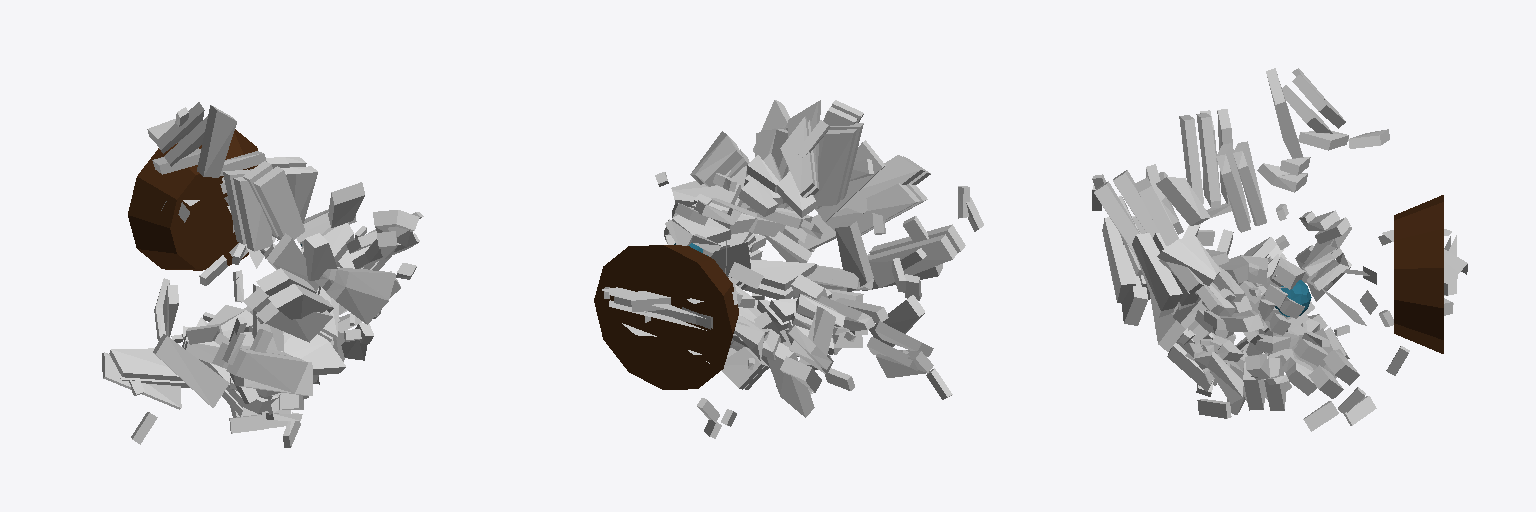
3 renders of one model, left to right at view 1: azimuth 30°, elevation 25°; view 2: azimuth 150°, elevation 25°; view 3: azimuth 270°, elevation 25°, orthographic.
Visible parts, largest first — view 1: Cone.001_Cone.001_cover, Cone_Cone_cover, Cylinder_Cylinder_Material.001; view 2: Cone.001_Cone.001_cover, Cone_Cone_cover, Cylinder_Cylinder_Material.001, Plane_Plane_Material.003; view 3: Cone_Cone_cover, Cone.001_Cone.001_cover, Cylinder_Cylinder_Material.001, Plane_Plane_Material.003.
Boxes of the visible parts, box(x1,y1,x2,y2) form: Cone.001_Cone.001_cover: box(102, 102, 423, 444); Cone_Cone_cover: box(186, 182, 419, 447); Cylinder_Cylinder_Material.001: box(128, 129, 257, 270); Cone.001_Cone.001_cover: box(655, 100, 983, 420); Cone_Cone_cover: box(664, 100, 965, 438); Cylinder_Cylinder_Material.001: box(594, 245, 738, 389); Plane_Plane_Material.003: box(602, 240, 750, 363); Cone_Cone_cover: box(1094, 170, 1393, 431); Cone.001_Cone.001_cover: box(1092, 68, 1409, 414); Cylinder_Cylinder_Material.001: box(1394, 195, 1443, 353); Plane_Plane_Material.003: box(1302, 227, 1467, 325).
Bounding box in the file's own units: 2.54 × 2.52 × 2.61.
4 materials, 1 textured.